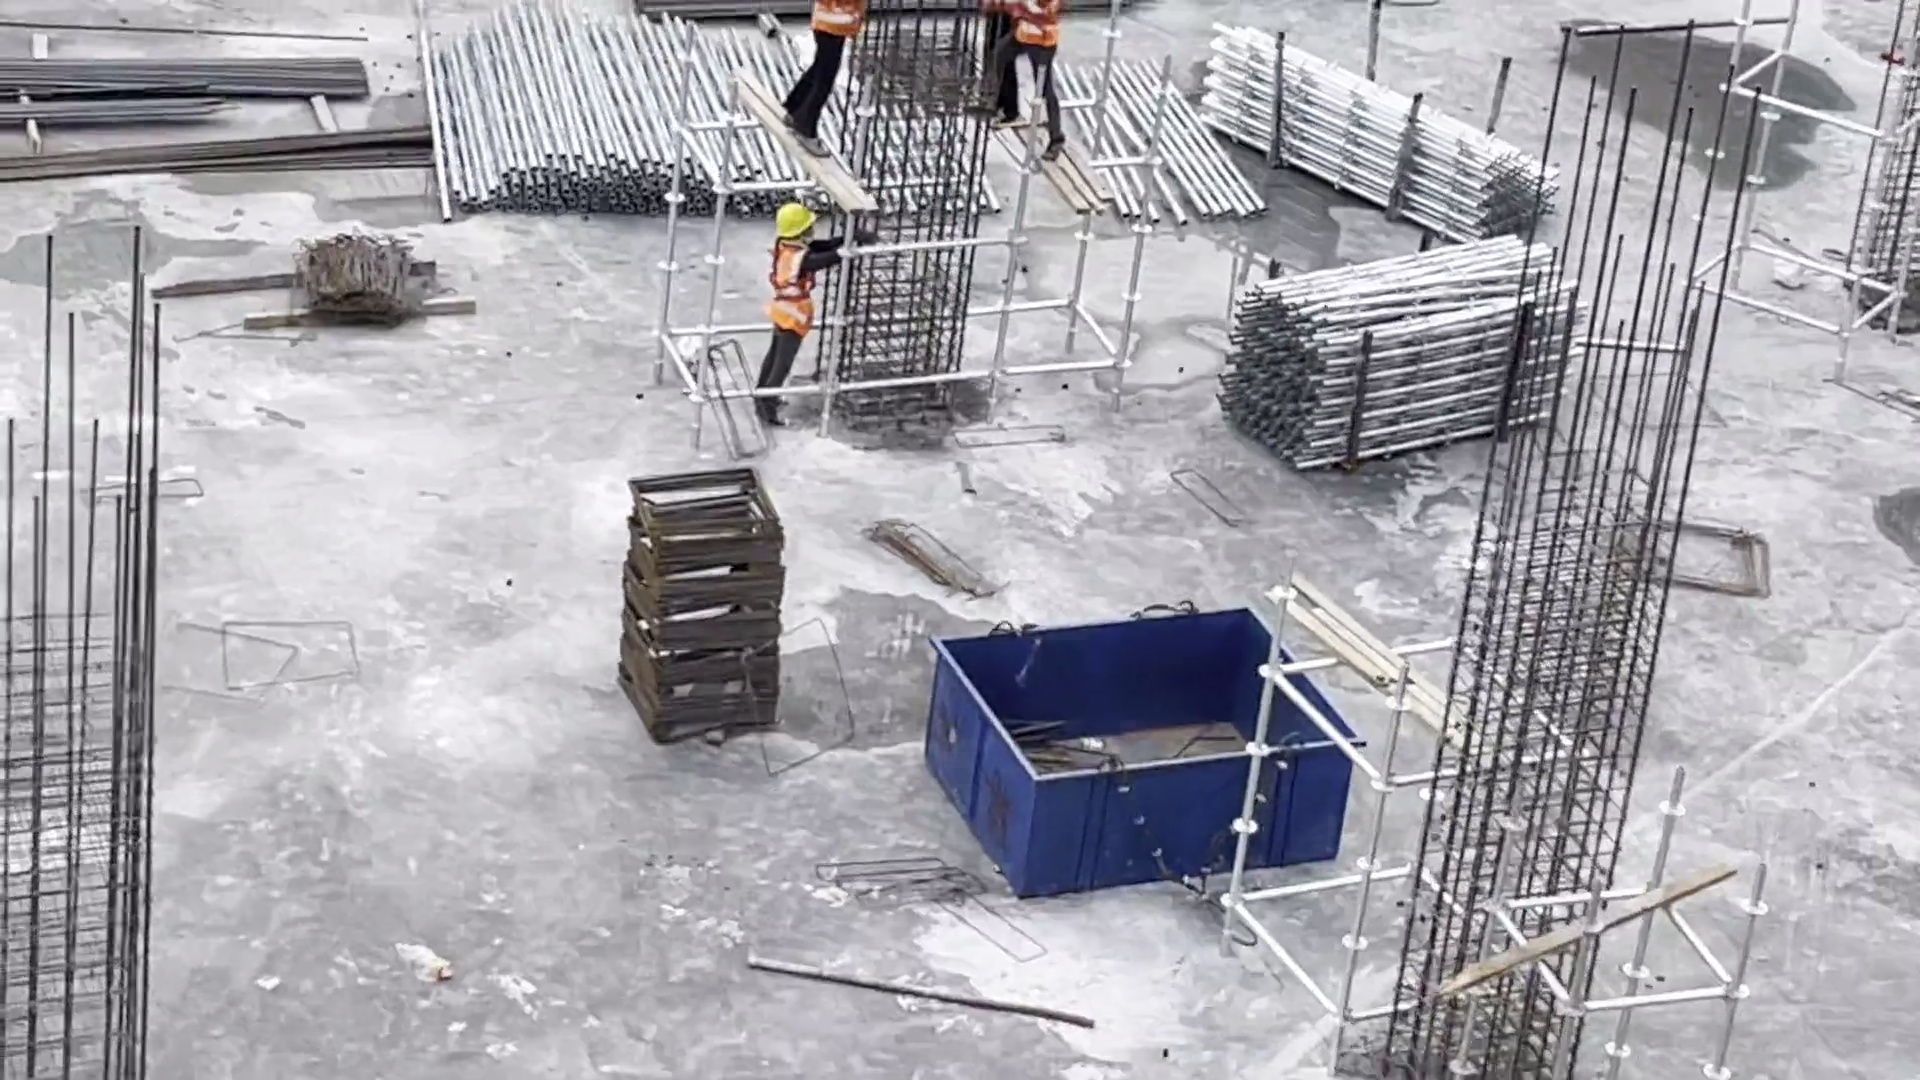helmet: (769, 202, 823, 242)
hopper: (923, 605, 1361, 909)
person: (745, 200, 828, 431), (990, 1, 1077, 165), (779, 1, 856, 157)
rebar: (11, 117, 459, 195), (1, 44, 388, 108), (1, 78, 201, 139)
scaffold: (1215, 212, 1585, 463), (1201, 20, 1551, 250), (430, 8, 807, 218)
vest: (764, 234, 822, 346), (1010, 1, 1060, 53), (814, 1, 856, 46)
